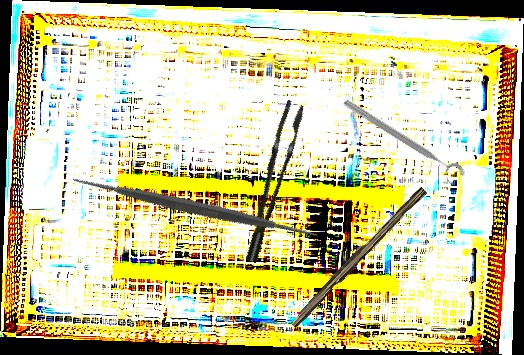Fixation Ring: (336, 95, 469, 190)
Scalpel Handle: (287, 182, 428, 331)
Spatula Surgical: (66, 79, 324, 335)
Tissue Forceps: (224, 99, 320, 264)
